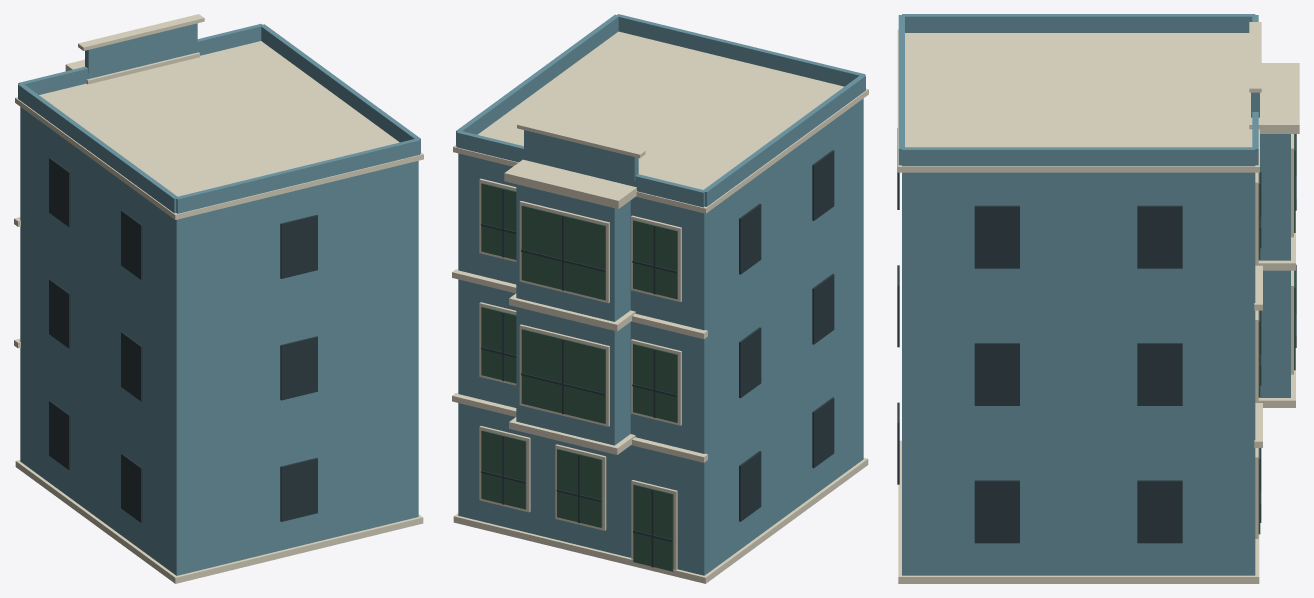
Rendered from KOL_T3_OLD_08.fbx.
The picture shows the model from 3 angles, left to right: view 1: azimuth 30°, elevation 25°; view 2: azimuth 150°, elevation 25°; view 3: azimuth 270°, elevation 25°; orthographic projection. The views are drawn at different scales.
Visible parts, largest first — view 1: KOL_T3_OLD_08__Body, KOL_T3_OLD_08__Trim, KOL_T3_OLD_08__Dark; view 2: KOL_T3_OLD_08__Body, KOL_T3_OLD_08__Trim, KOL_T3_OLD_08__Accent, KOL_T3_OLD_08__Dark; view 3: KOL_T3_OLD_08__Body, KOL_T3_OLD_08__Trim, KOL_T3_OLD_08__Dark, KOL_T3_OLD_08__Accent.
Part boxes in pixels (x1,y1,x2,y2): KOL_T3_OLD_08__Body: [18, 23, 420, 575]; KOL_T3_OLD_08__Trim: [14, 14, 423, 583]; KOL_T3_OLD_08__Dark: [49, 157, 317, 522]; KOL_T3_OLD_08__Body: [456, 14, 865, 575]; KOL_T3_OLD_08__Trim: [452, 31, 868, 583]; KOL_T3_OLD_08__Accent: [481, 183, 677, 571]; KOL_T3_OLD_08__Dark: [481, 150, 834, 567]; KOL_T3_OLD_08__Body: [898, 14, 1290, 575]; KOL_T3_OLD_08__Trim: [897, 22, 1299, 583]; KOL_T3_OLD_08__Dark: [897, 128, 1296, 543]; KOL_T3_OLD_08__Accent: [1258, 134, 1295, 534].
Size of the model in its own units: 25.74 by 40.22 by 31.87.
